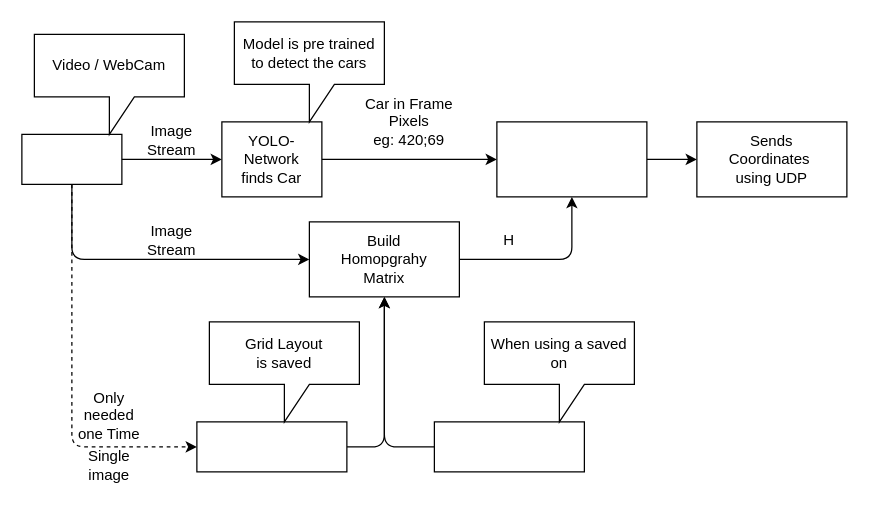
The diagram is 869 pixels wide and 506 high, and some of its shapes have lost their labels. Each missing label, with the box of its shape:
Build Calibration file: (196, 421, 347, 472)
Convert pixel to coordinates: (496, 121, 647, 197)
Image gets taken: (21, 133, 122, 184)
Load Calibration File: (433, 421, 584, 472)
